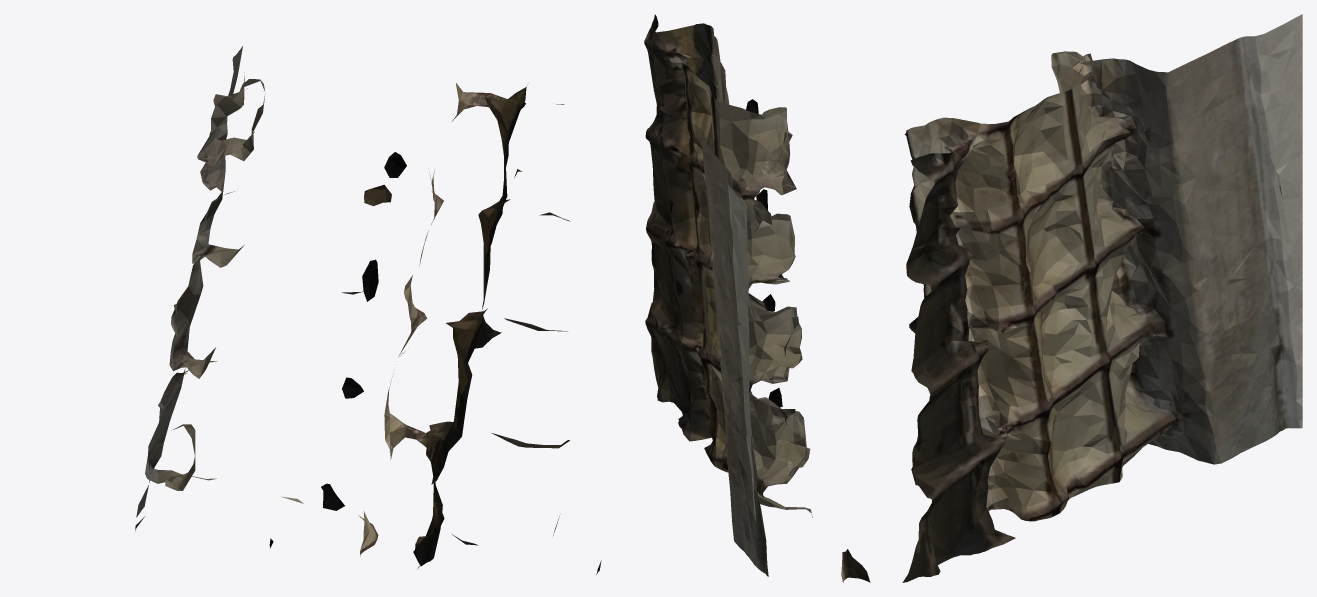
3 renders of one model, left to right at view 1: azimuth 30°, elevation 25°; view 2: azimuth 150°, elevation 25°; view 3: azimuth 270°, elevation 25°, orthographic. The views are drawn at different scales.
Size of the model in its own units: 0.6585 by 0.8374 by 0.8288.
4 materials, 4 textured.
